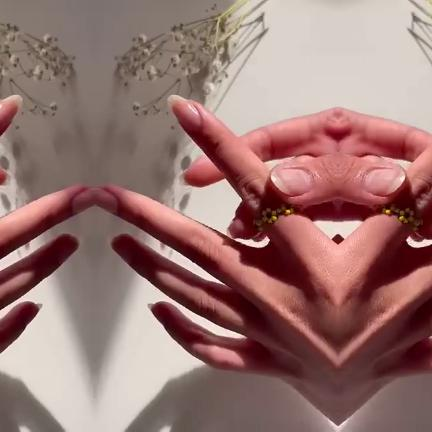Nail: (166, 94, 200, 128), (270, 169, 311, 196), (363, 169, 404, 196), (0, 94, 22, 127), (94, 188, 117, 213), (71, 188, 94, 213)
